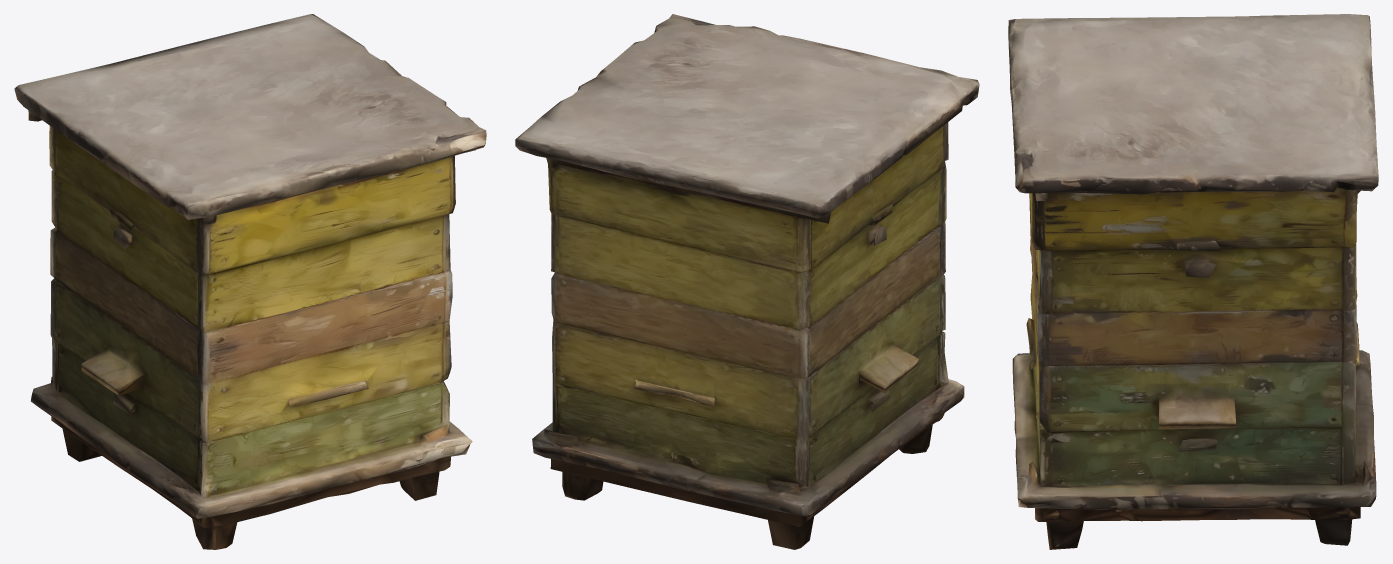
The model's file is kh_beehive.glb.
3 renders of one model, left to right at view 1: azimuth 30°, elevation 25°; view 2: azimuth 150°, elevation 25°; view 3: azimuth 270°, elevation 25°, orthographic. The views are drawn at different scales.
Visible parts, largest first — view 1: tripo_node_b09fc0d2-512c-4086-a4c3-e68d969f5507; view 2: tripo_node_b09fc0d2-512c-4086-a4c3-e68d969f5507; view 3: tripo_node_b09fc0d2-512c-4086-a4c3-e68d969f5507.
Boxes of the visible parts, x1,y1,x2,y2 form: tripo_node_b09fc0d2-512c-4086-a4c3-e68d969f5507: [14, 14, 486, 549]; tripo_node_b09fc0d2-512c-4086-a4c3-e68d969f5507: [515, 14, 979, 549]; tripo_node_b09fc0d2-512c-4086-a4c3-e68d969f5507: [1008, 14, 1378, 549].
Size of the model in its own units: 0.877 by 1 by 0.843.
1 material, 1 textured.
